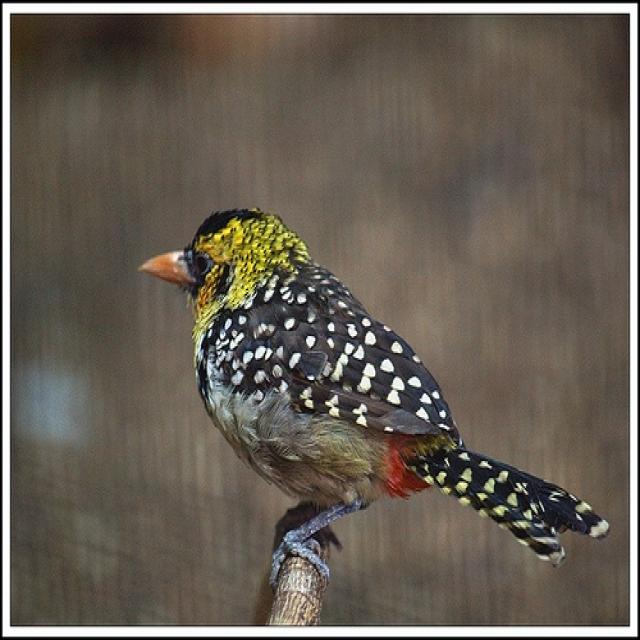bird: (135, 204, 610, 586)
